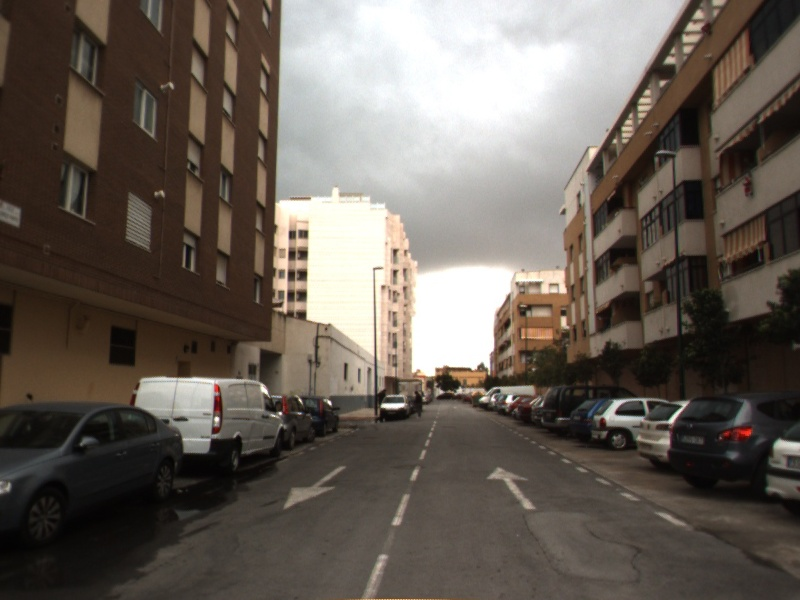STRAIGHT: (484, 464, 539, 511)
